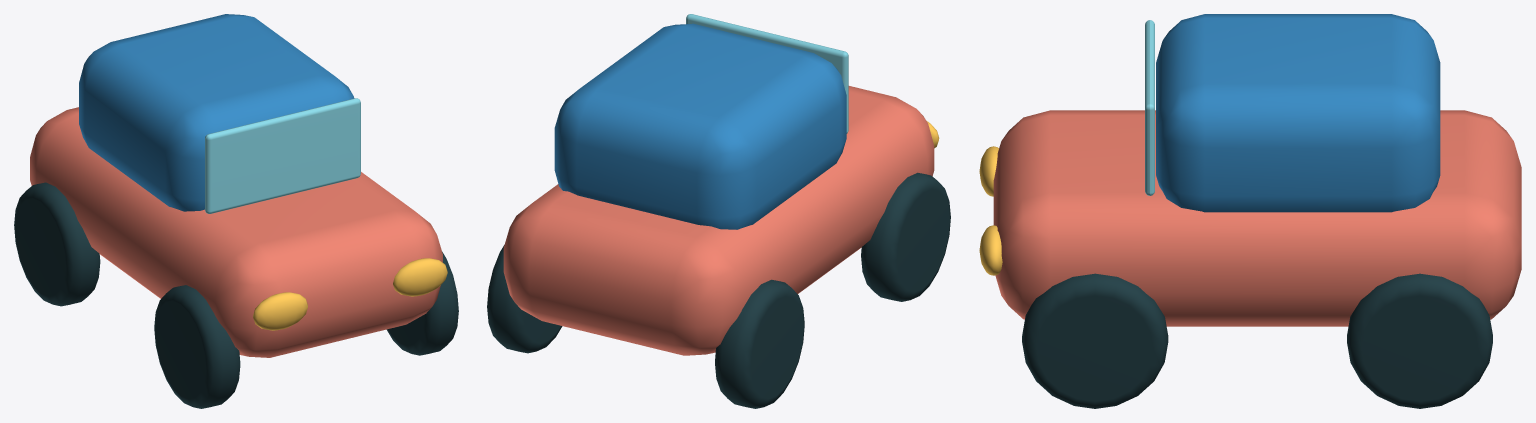
File: car.fbx
3 renders of one model, left to right at view 1: azimuth 30°, elevation 25°; view 2: azimuth 150°, elevation 25°; view 3: azimuth 270°, elevation 25°, orthographic. The views are drawn at different scales.
Parts seen in each view (by area): view 1: Body, Cabin, Windscreen, Wheel, Wheel.001, Wheel.002, Headlight, Headlight.001; view 2: Body, Cabin, Wheel.001, Wheel, Wheel.003, Windscreen; view 3: Body, Cabin, Wheel.002, Wheel.003, Windscreen, Headlight.001, Headlight.
Boxes of the visible parts, <box> form: Body: <box>30,107,442,357</box>; Cabin: <box>79,14,354,211</box>; Windscreen: <box>205,98,360,213</box>; Wheel: <box>154,285,240,408</box>; Wheel.001: <box>14,182,100,306</box>; Wheel.002: <box>386,251,458,355</box>; Headlight: <box>253,292,307,330</box>; Headlight.001: <box>393,258,447,296</box>; Body: <box>503,86,934,355</box>; Cabin: <box>554,23,846,229</box>; Wheel.001: <box>715,279,804,408</box>; Wheel: <box>861,172,950,301</box>; Wheel.003: <box>487,245,562,353</box>; Windscreen: <box>686,14,848,133</box>; Body: <box>993,110,1521,326</box>; Cabin: <box>1156,14,1440,212</box>; Wheel.002: <box>1022,273,1168,408</box>; Wheel.003: <box>1347,273,1492,408</box>; Windscreen: <box>1145,20,1154,195</box>; Headlight.001: <box>979,225,1002,275</box>; Headlight: <box>979,146,998,196</box>.
Bounding box in the file's own units: 0.83 × 0.795 × 1.33.
